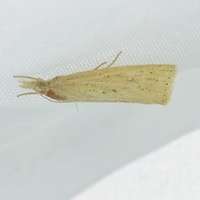insect: (14, 51, 176, 104)
